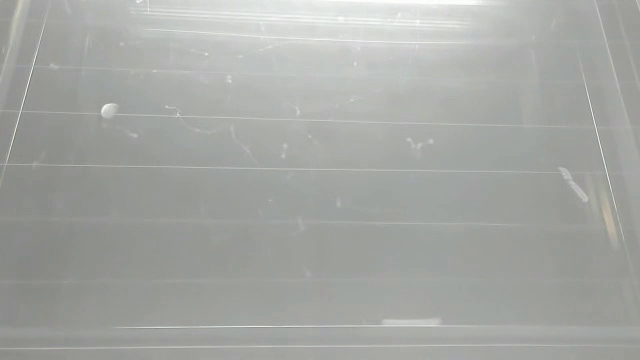alpha: (555, 162, 593, 207), (380, 314, 447, 330), (97, 99, 130, 126)
